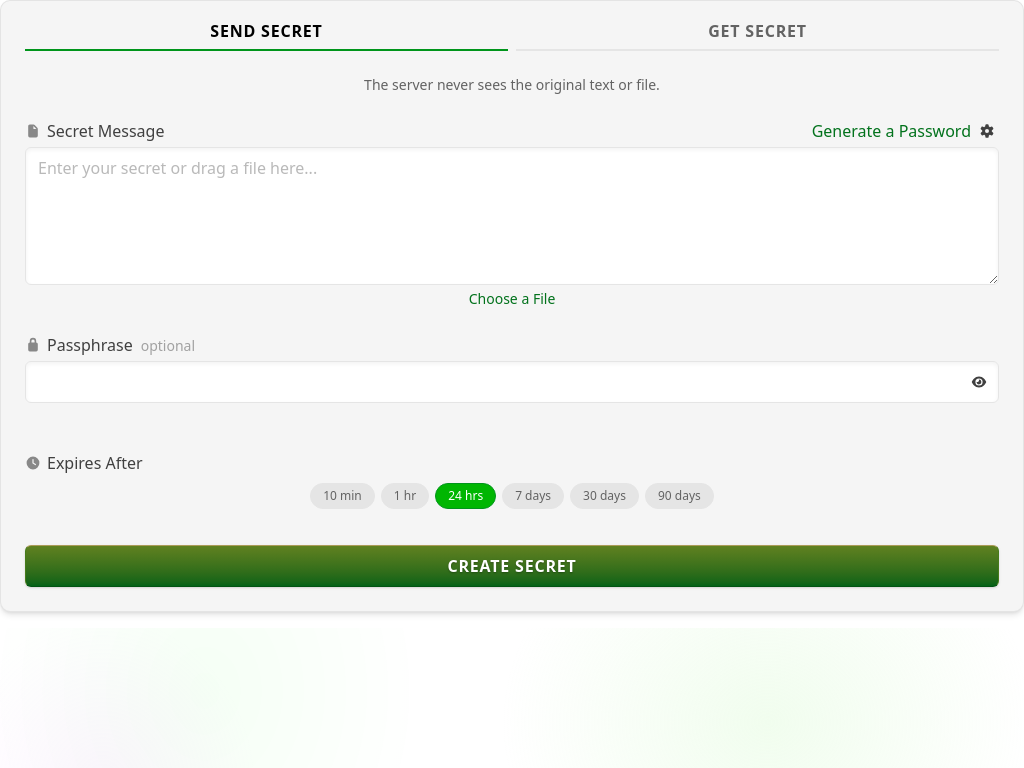
SendPage › keeps preview and secret message in sync when editing in modal
Type "initial value" into the text box with placeholder "Enter your secret or drag a file here..." at (512, 216), box [25,147,999,285]
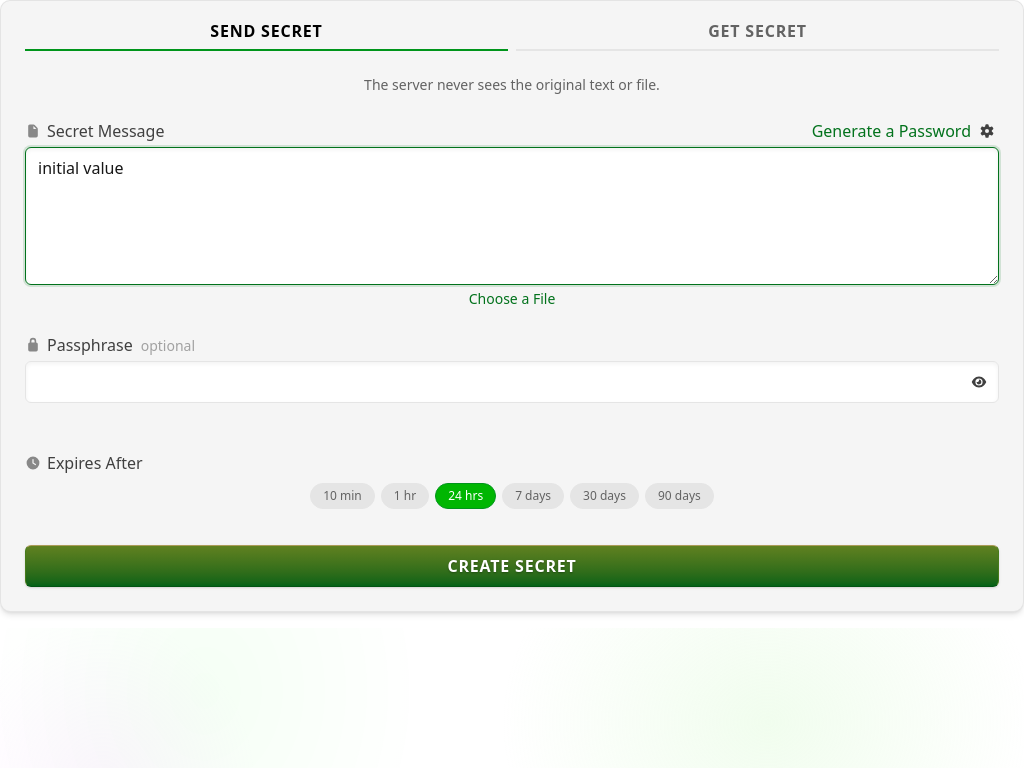
Click the button named "Password generator settings" at (987, 131), box [975,119,999,143]
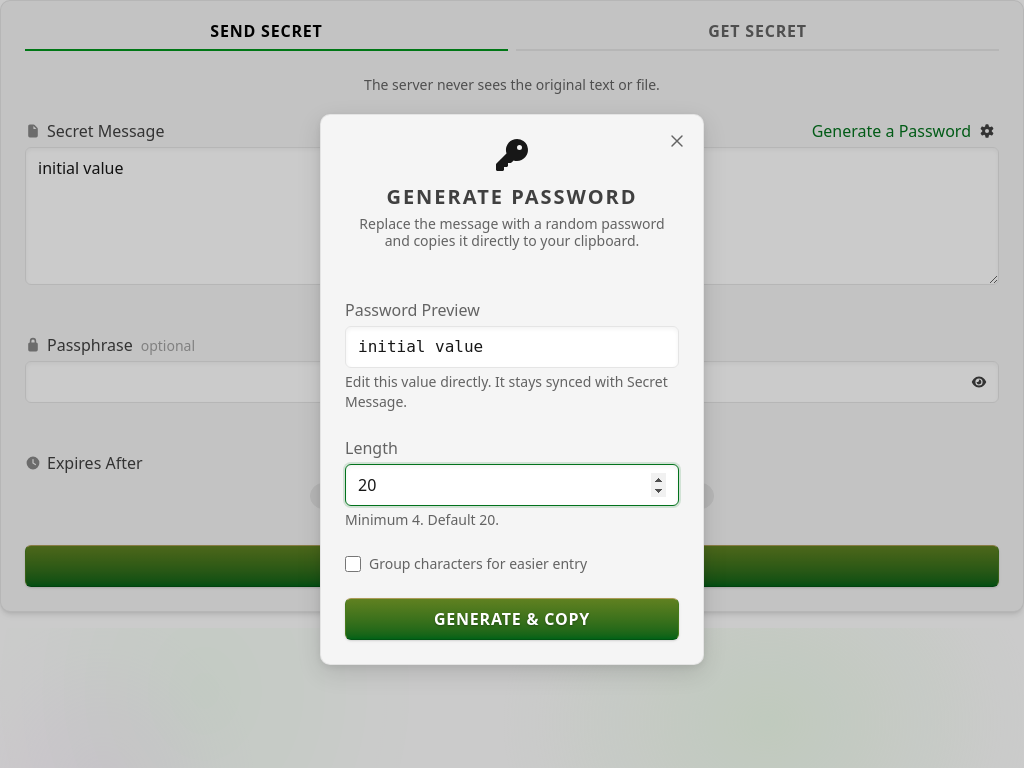
Replace the text in the field labelled "Password Preview" with "edited-password-value" at (512, 347), box [345,326,679,368]
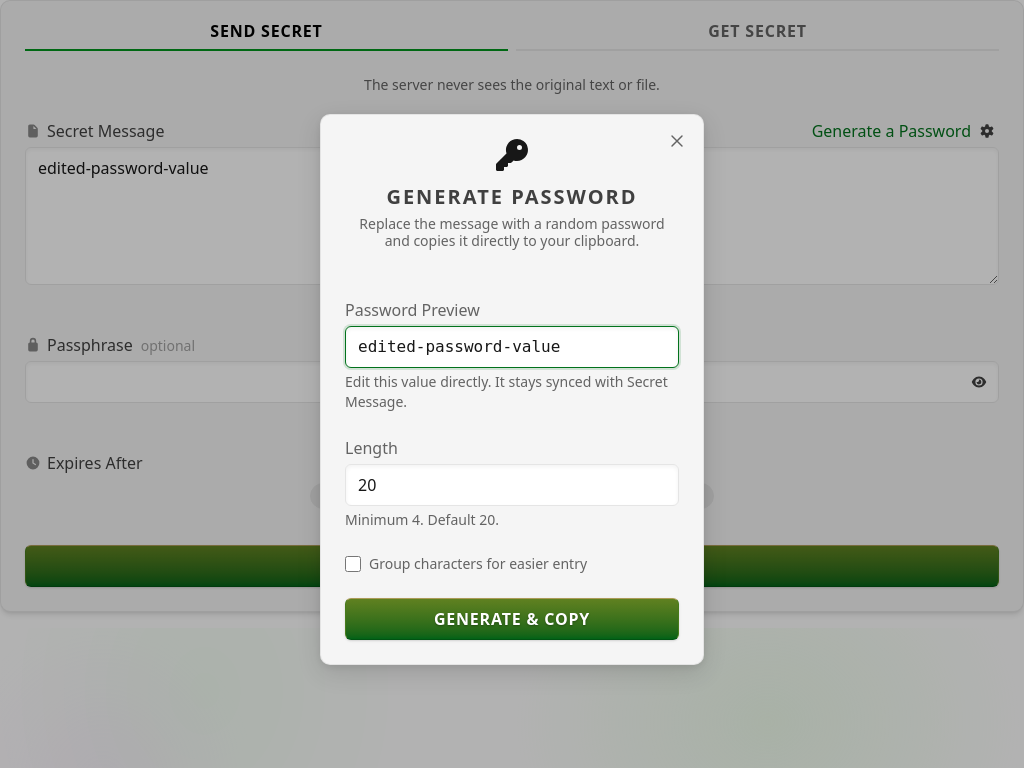
Check: the text box with placeholder "Enter your secret or drag a file here..." holds "edited-password-value", box [25,147,999,285]
